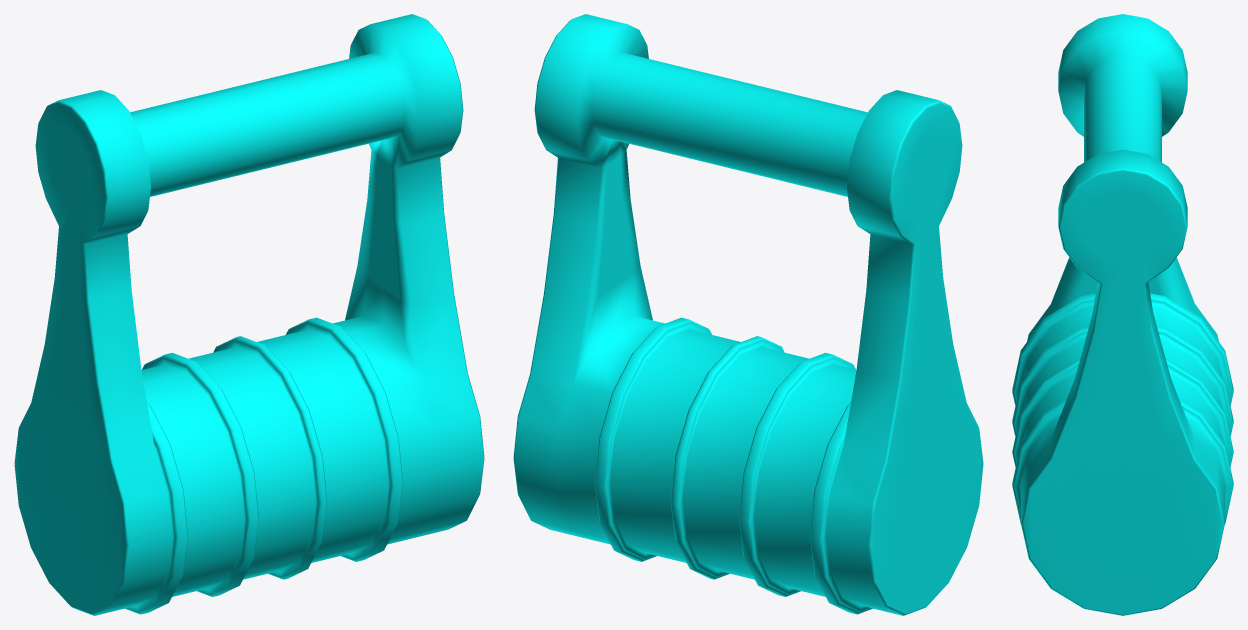
File: NumbLock.fbx
3 renders of one model, left to right at view 1: azimuth 30°, elevation 25°; view 2: azimuth 150°, elevation 25°; view 3: azimuth 270°, elevation 25°, orthographic. The views are drawn at different scales.
Visible parts, largest first — view 1: Numberlock; view 2: Numberlock; view 3: Numberlock.
Part boxes in pixels (x1=…): Numberlock: x1=14, y1=14, x2=484, y2=615; Numberlock: x1=513, y1=14, x2=983, y2=615; Numberlock: x1=1012, y1=14, x2=1233, y2=615.
Bounding box in the file's own units: 6.88 × 9.39 × 4.13.
